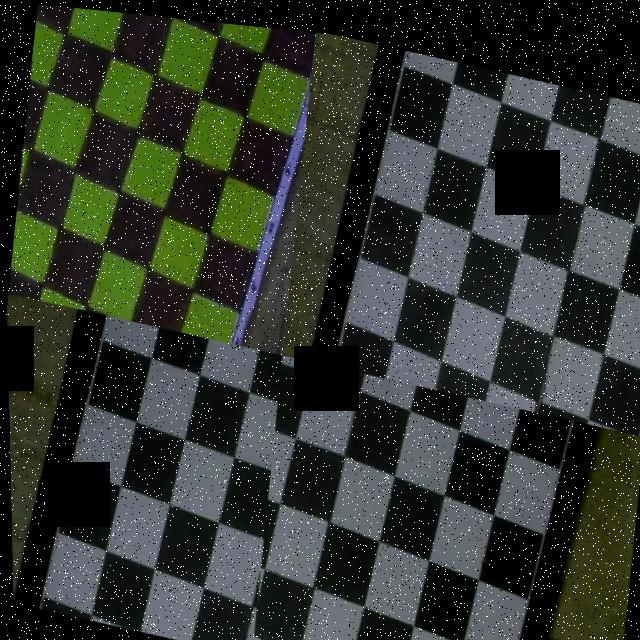chess-table-corners: (569, 408, 575, 412), (108, 314, 114, 318), (277, 358, 280, 364), (428, 46, 432, 48)
